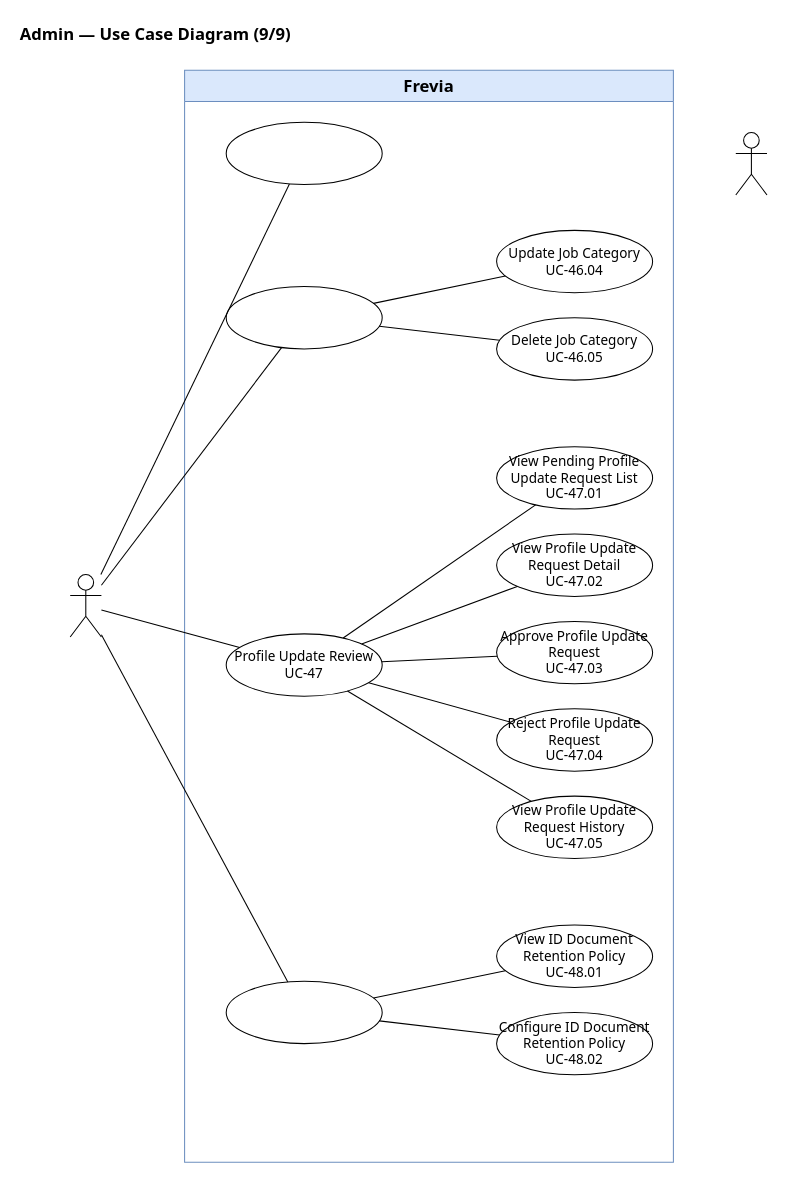
Some shapes in this 790 by 1180 pixel diagram are drawn without their labels. The shapes that lost their labels are listed below. From the top down, each one's centre as x and y in pixels, then its label:
At (x=303, y=153): "Create Job Category UC-46.03".
At (x=751, y=163): "Stripe".
At (x=303, y=317): "Job Category Management UC-46".
At (x=85, y=605): "Admin".
At (x=303, y=1012): "ID Document Retention Policy Management UC-48".
